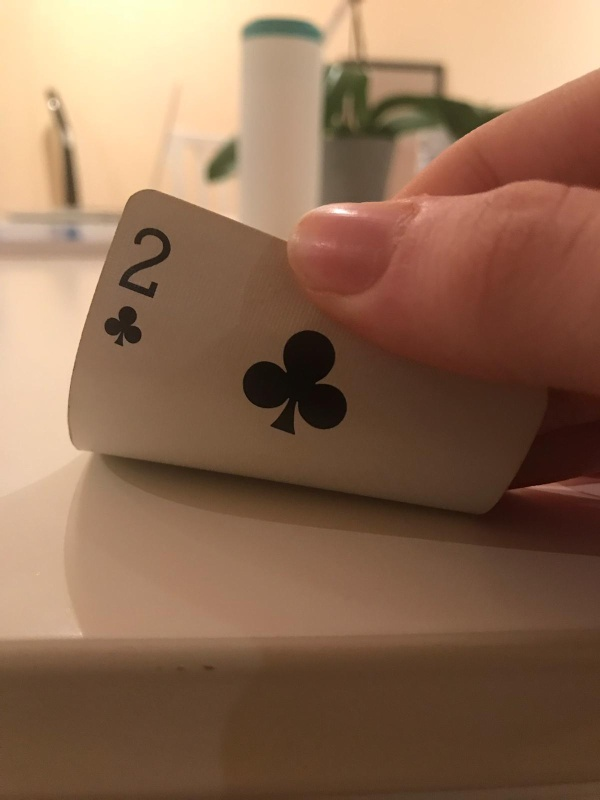C2: (103, 224, 173, 357)
